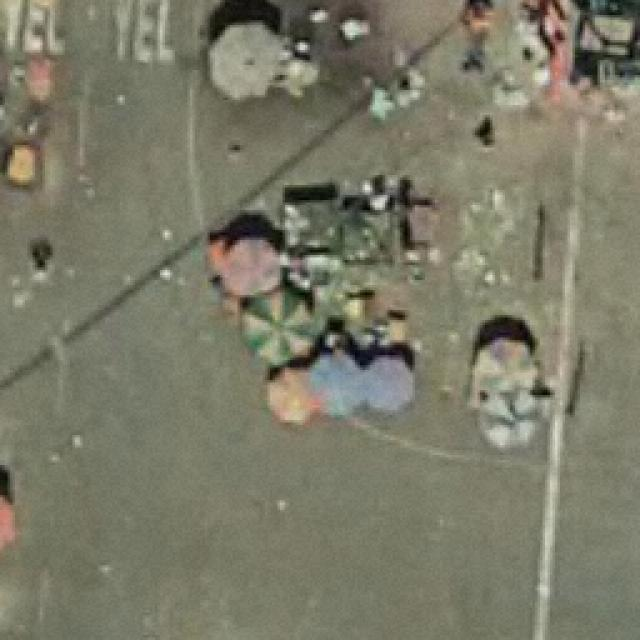vendedor_ambulante: (207, 5, 290, 104), (219, 216, 290, 298), (242, 282, 316, 360), (470, 381, 545, 451), (473, 326, 537, 399), (306, 347, 368, 417), (359, 348, 424, 409), (264, 357, 320, 423)
